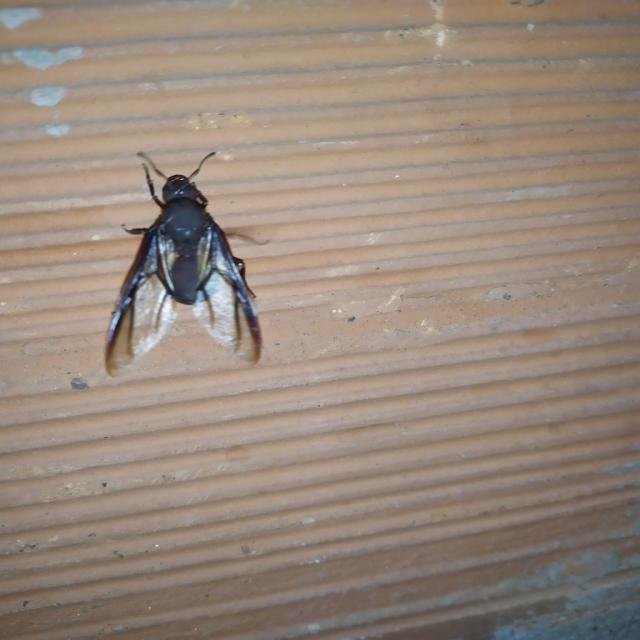Alive-Female-Alate: (104, 151, 270, 379)
